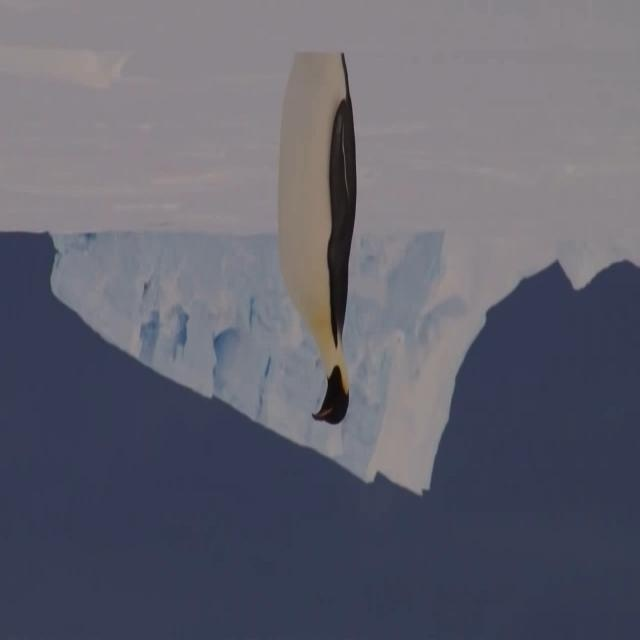penguin: (272, 52, 356, 424)
